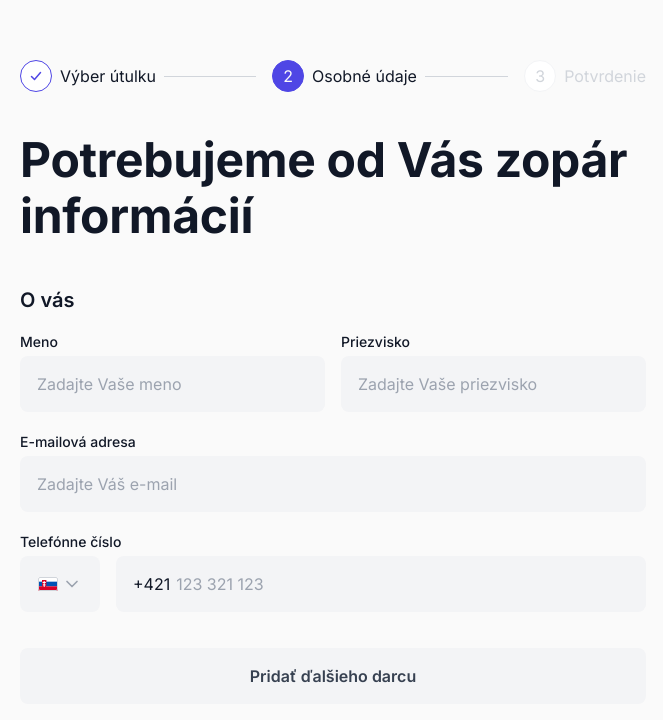
Test: Step2 › multiple donors › removing the second donor returns to a single donor
expect the field labelled "Meno" is shown: met, box left=20, top=356, right=325, bottom=412
Click the button "Pridať ďalšieho darcu": click(333, 676) left=20, top=648, right=646, bottom=704
(page scrolled)
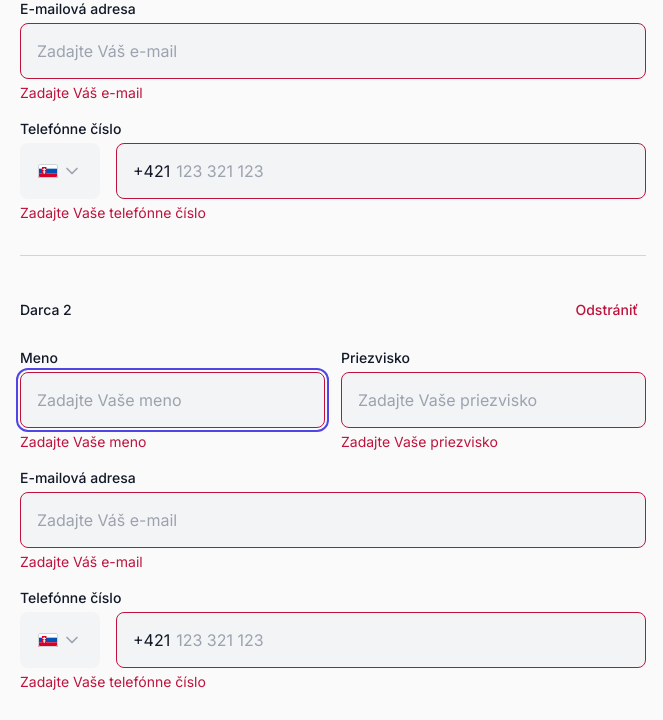
expect the heading "Darca 2" is shown: met, box left=20, top=300, right=72, bottom=320
Click the button with aria-label "Odstrániť darcu 2": click(607, 310) left=568, top=288, right=646, bottom=332
(page scrolled)
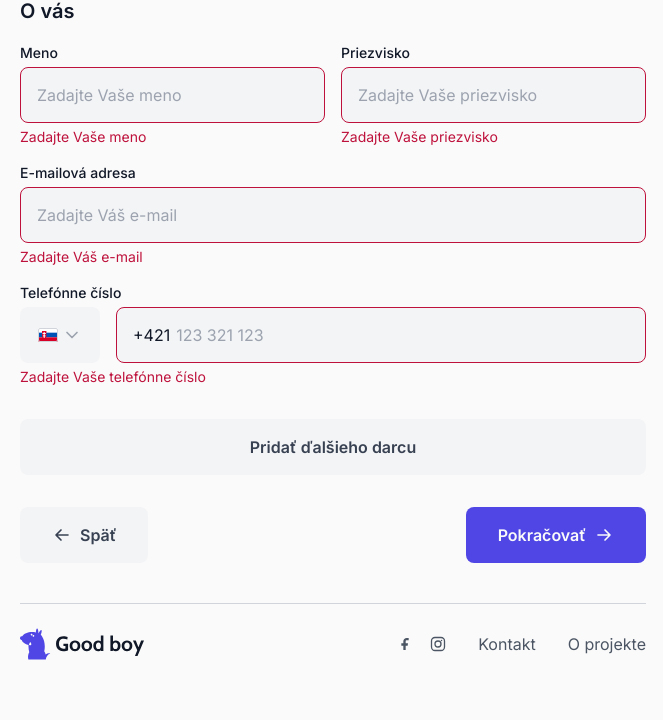
expect the number of fields labelled "Meno" is 1: met, box left=20, top=67, right=325, bottom=123
expect the heading "Darca 2" is gone: met
